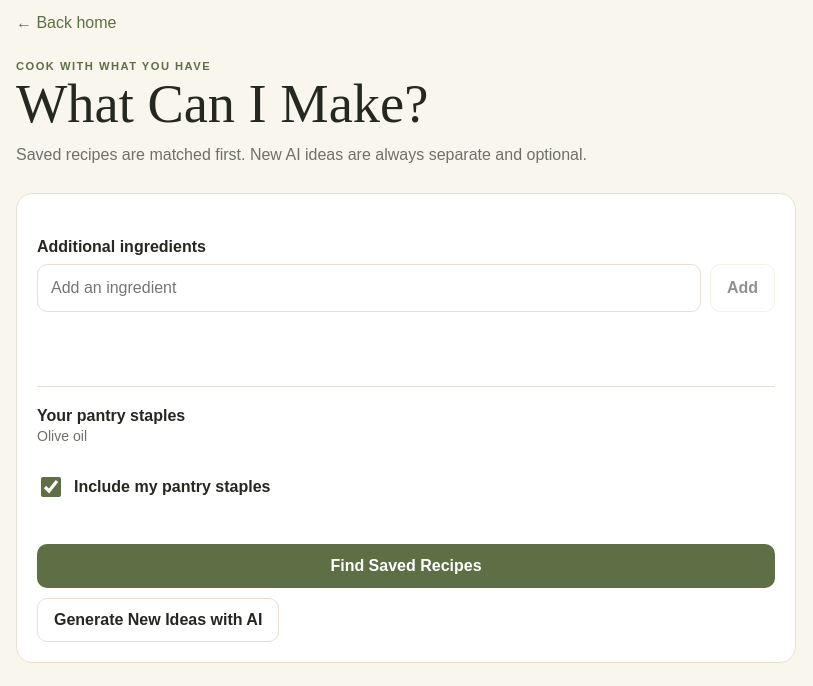
Scenario: What Can I Make › adds and removes individual ingredients
This screenshot has width=813, height=686.
Type "mushrooms" into the field labelled "Additional ingredients" at (369, 288), box left=37, top=264, right=701, bottom=312
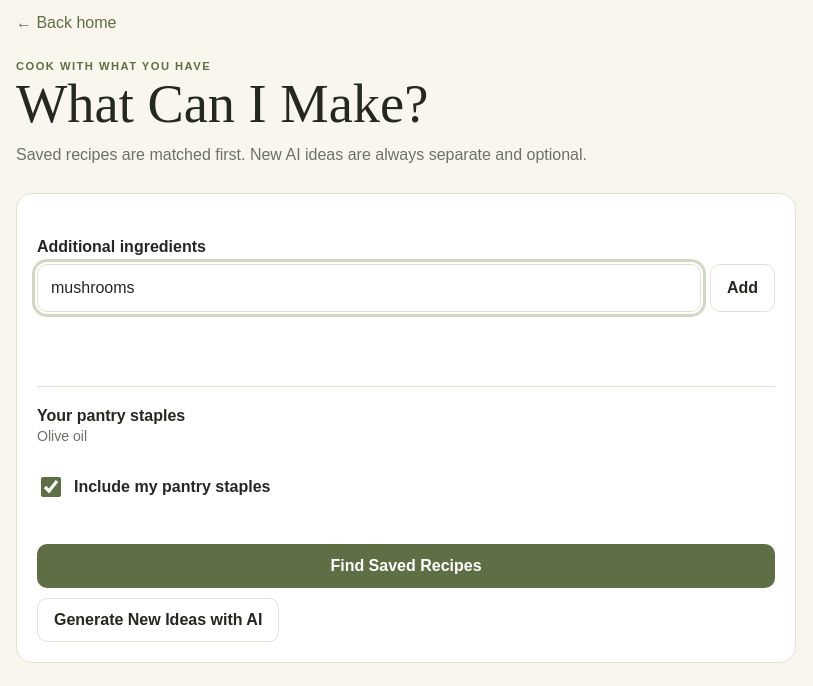
Click the button "Add" at (742, 288), box left=710, top=264, right=775, bottom=312
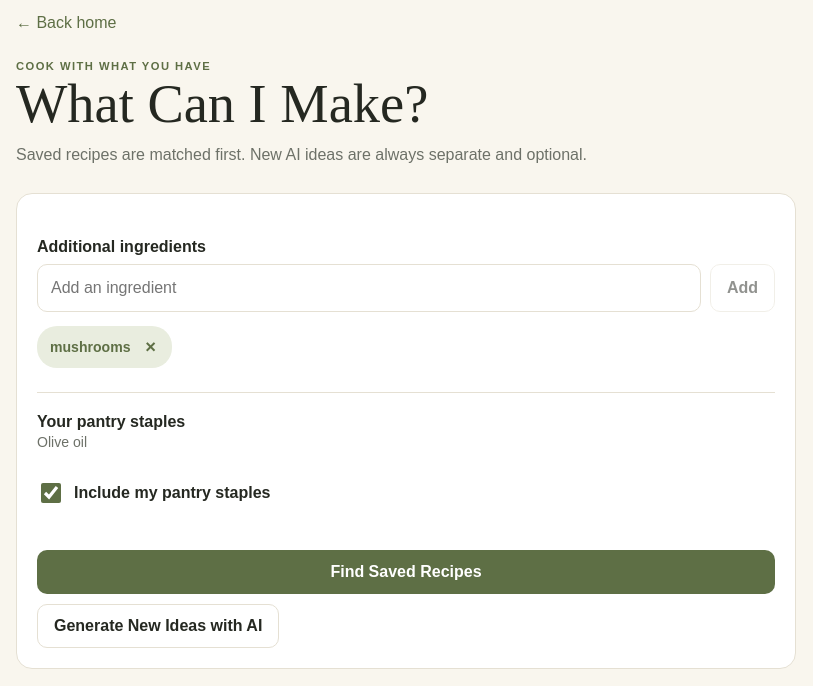
Expected: the text "mushrooms" is shown, left=50, top=339, right=131, bottom=355
Click the button named "Remove mushrooms" at (151, 347), box left=137, top=333, right=165, bottom=361
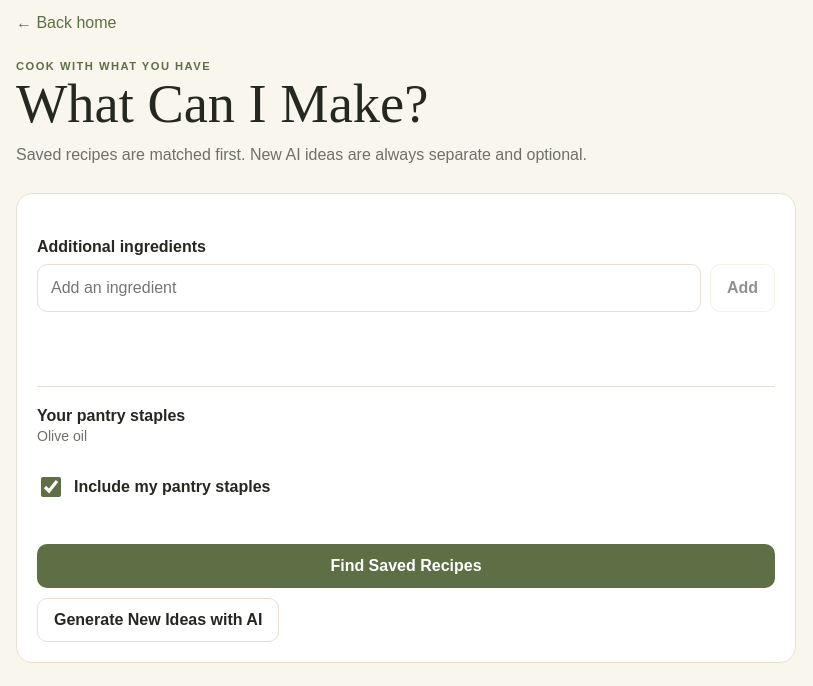
Expected: the text "mushrooms" is gone
